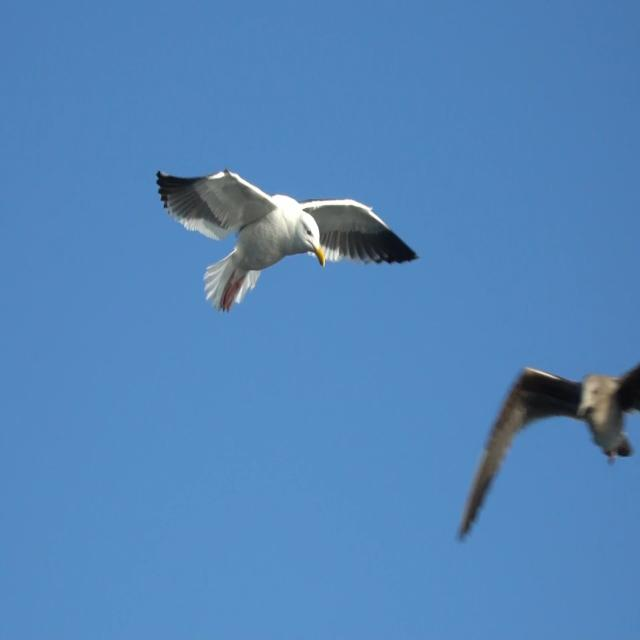bird: (451, 327, 640, 570), (150, 160, 421, 322)
